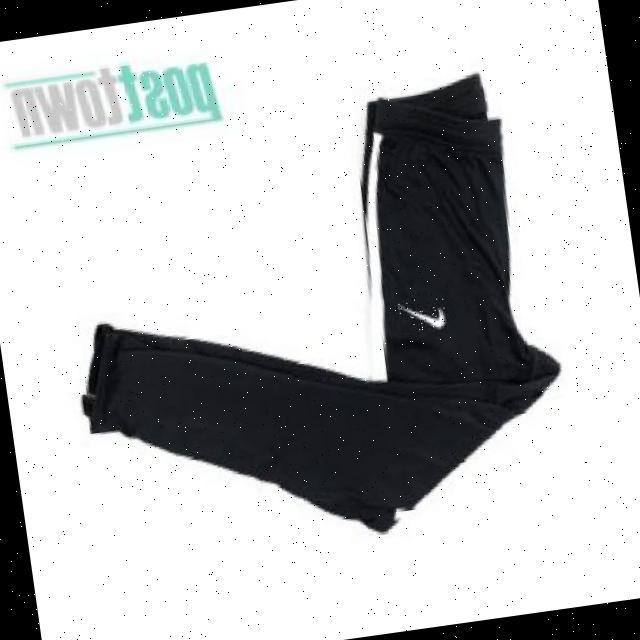Nike: (398, 296, 450, 333)
